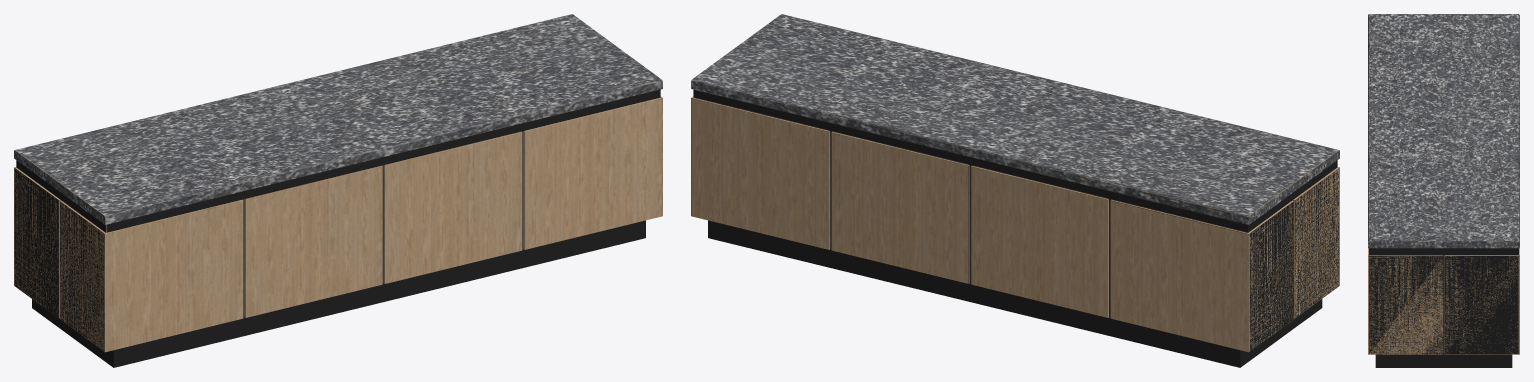
The model's file is counter.obj.
3 renders of one model, left to right at view 1: azimuth 30°, elevation 25°; view 2: azimuth 150°, elevation 25°; view 3: azimuth 270°, elevation 25°, orthographic. The views are drawn at different scales.
Parts seen in each view (by area): view 1: counter; view 2: counter; view 3: counter.
Boxes of the visible parts, box(x1,y1,x2,y2) form: counter: box(14, 14, 662, 367); counter: box(691, 14, 1339, 367); counter: box(1368, 14, 1519, 367).
Bounding box in the file's own units: 9.24 × 2.5 × 2.61.
1 material, 1 textured.
